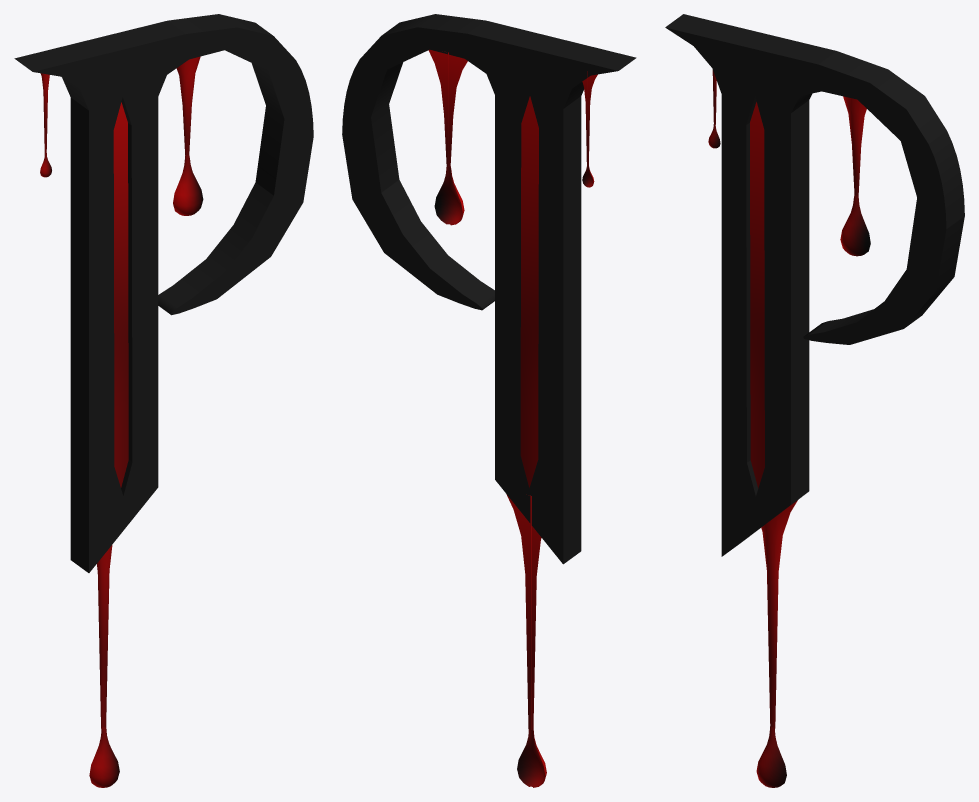
3 views of the same model, side by side, from view 1: azimuth 30°, elevation 25°; view 2: azimuth 150°, elevation 25°; view 3: azimuth 330°, elevation 25° (orthographic).
Visible parts, largest first — view 1: P, P_Element, Blood_156, Blood_157, Blood_163; view 2: P, P_Element, Blood_156, Blood_157, Blood_163; view 3: P, P_Element, Blood_156, Blood_157.
Boxes of the visible parts, x1,y1,x2,y2 form: P: (14,14,313,572); P_Element: (113,102,128,487); Blood_156: (89,545,119,787); Blood_157: (173,56,203,215); Blood_163: (40,73,51,177); P: (342,14,636,564); P_Element: (520,96,538,487); Blood_156: (506,494,546,787); Blood_157: (428,49,467,225); Blood_163: (582,71,597,187); P: (665,14,964,556); P_Element: (750,102,764,488); Blood_156: (756,500,797,787); Blood_157: (840,96,870,256).
Size of the model in its own units: 44.07 by 112 by 5.05.
Materials: 2 (1 with a texture image).
